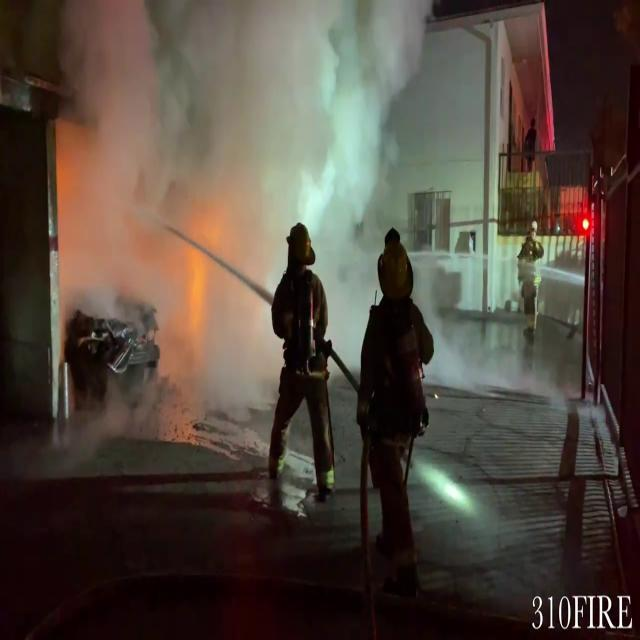Smoke: (21, 0, 437, 370)
